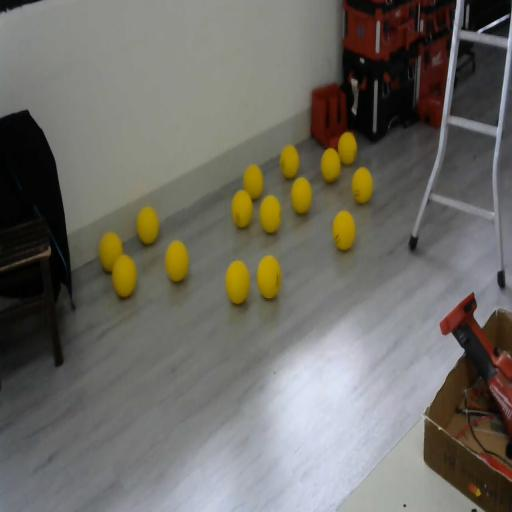FUEL: (224, 259, 251, 306), (111, 253, 137, 299), (164, 238, 190, 284), (256, 254, 282, 299), (332, 209, 356, 252), (290, 176, 313, 216), (259, 193, 281, 234), (136, 206, 159, 245), (231, 189, 253, 228), (243, 163, 264, 200), (320, 146, 341, 183), (352, 167, 372, 204), (280, 144, 300, 178), (338, 131, 357, 165)
